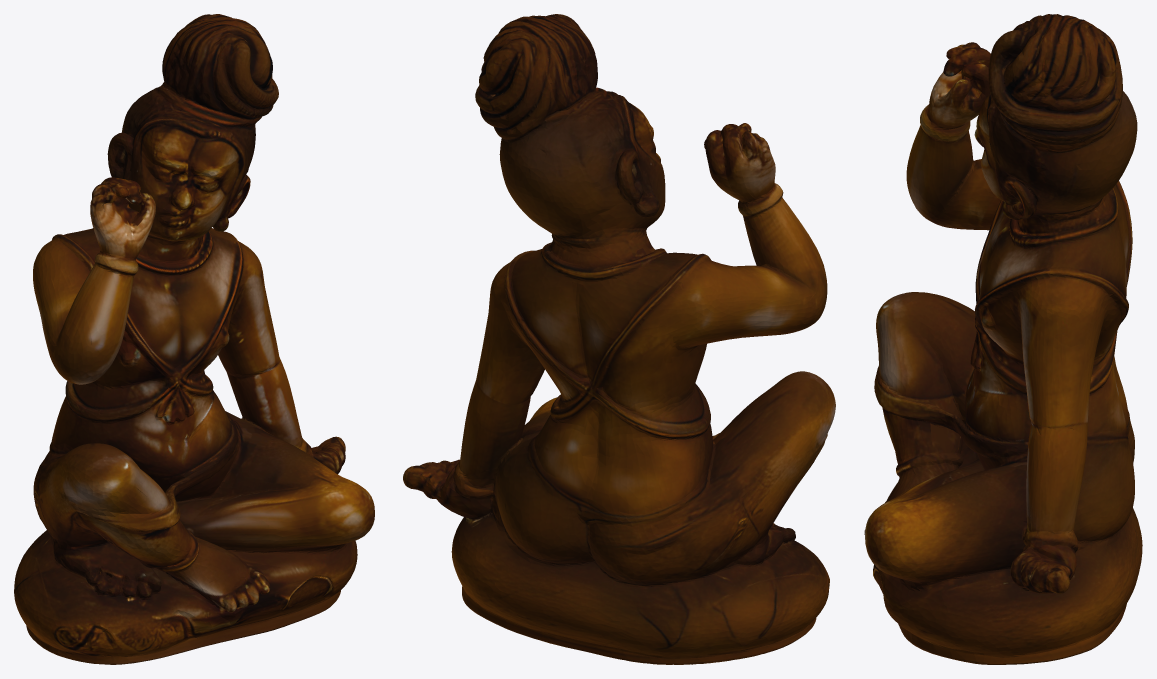
3 views of the same model, side by side, from view 1: azimuth 30°, elevation 25°; view 2: azimuth 150°, elevation 25°; view 3: azimuth 270°, elevation 25° (orthographic). The views are drawn at different scales.
Visible parts, largest first — view 1: textured_mesh; view 2: textured_mesh; view 3: textured_mesh.
Part boxes in pixels (<box>): textured_mesh: <box>14,14,374,664</box>; textured_mesh: <box>403,14,835,664</box>; textured_mesh: <box>864,14,1142,664</box>.
Size of the model in its own units: 1.32 by 1.99 by 0.835.
Materials: 1 (1 with a texture image).
